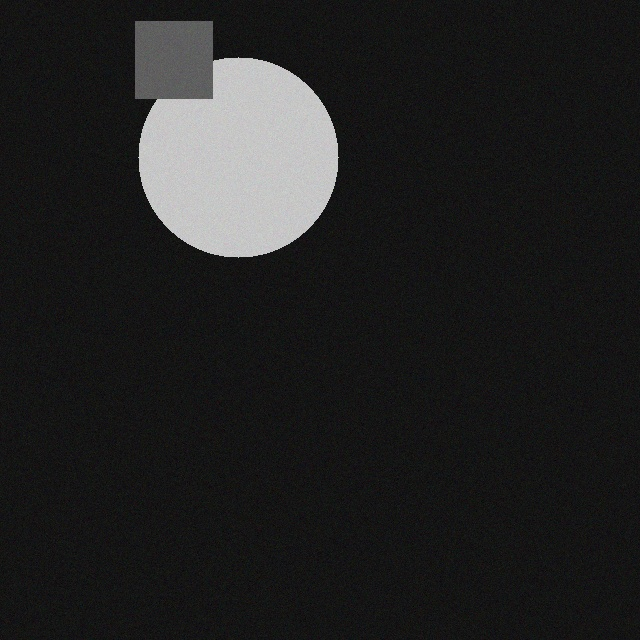circle: (127, 48, 327, 248)
square: (124, 12, 201, 89)
